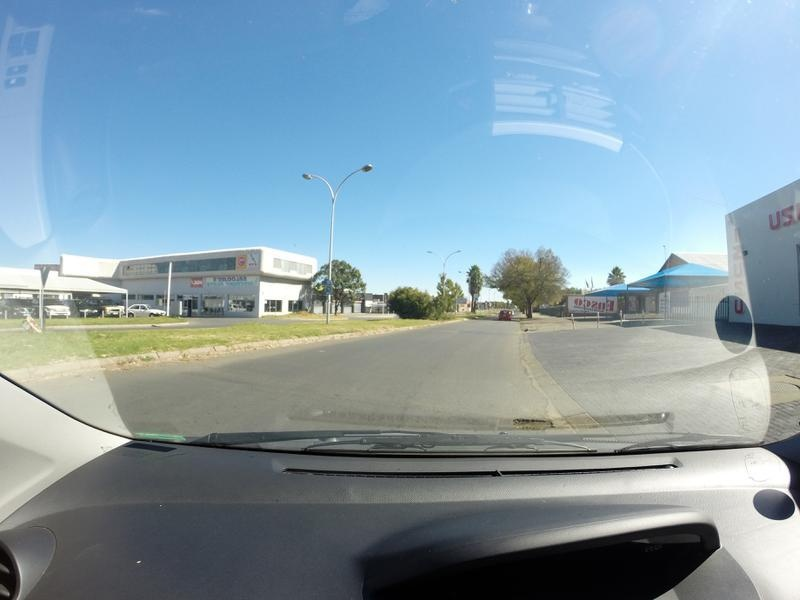pothole: (501, 409, 555, 432)
